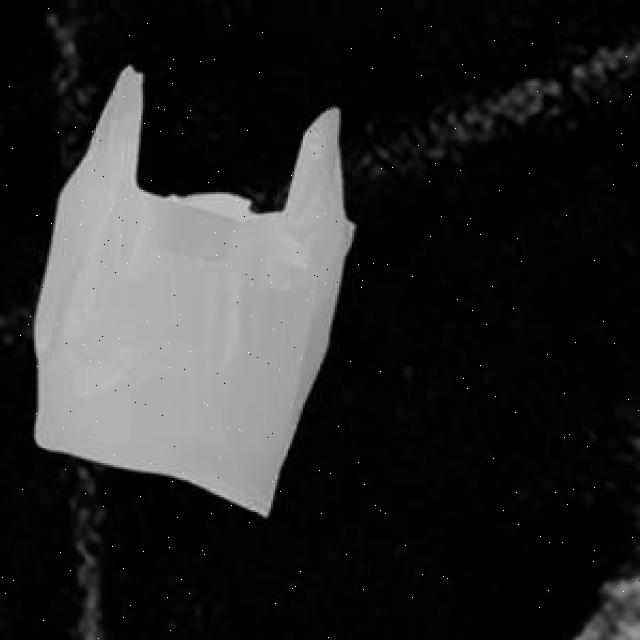plastic_bag: (31, 64, 356, 519)
